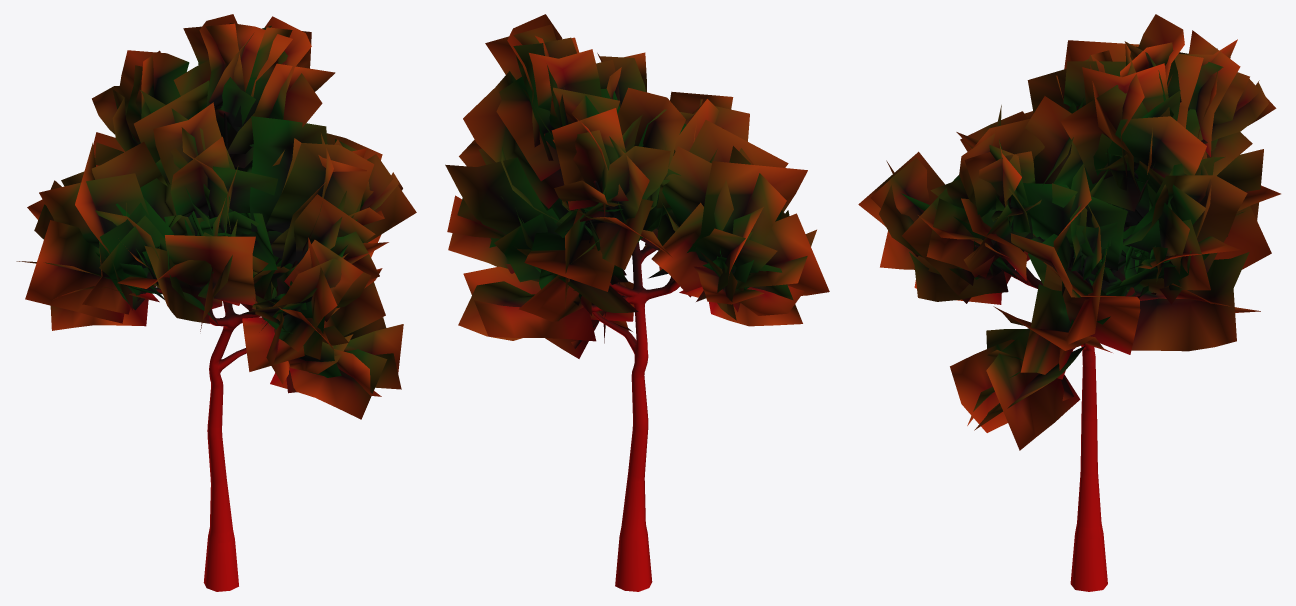
Rendered from GenericTree_Winter_D.fbx.
3 renders of one model, left to right at view 1: azimuth 30°, elevation 25°; view 2: azimuth 150°, elevation 25°; view 3: azimuth 270°, elevation 25°, orthographic. The views are drawn at different scales.
Parts seen in each view (by area): view 1: GTWD_Leaves_LOD0, GTWD_Bark_LOD0; view 2: GTWD_Leaves_LOD0, GTWD_Bark_LOD0; view 3: GTWD_Leaves_LOD0, GTWD_Bark_LOD0.
Boxes of the visible parts, left/top/right/bottom form: GTWD_Leaves_LOD0: left=16, top=14, right=416, bottom=419; GTWD_Bark_LOD0: left=155, top=113, right=298, bottom=591; GTWD_Leaves_LOD0: left=445, top=14, right=829, bottom=358; GTWD_Bark_LOD0: left=584, top=180, right=720, bottom=591; GTWD_Leaves_LOD0: left=858, top=14, right=1280, bottom=450; GTWD_Bark_LOD0: left=974, top=170, right=1139, bottom=591.
Size of what is drawn, in the model's own units: 8.16 by 11.34 by 7.55.
